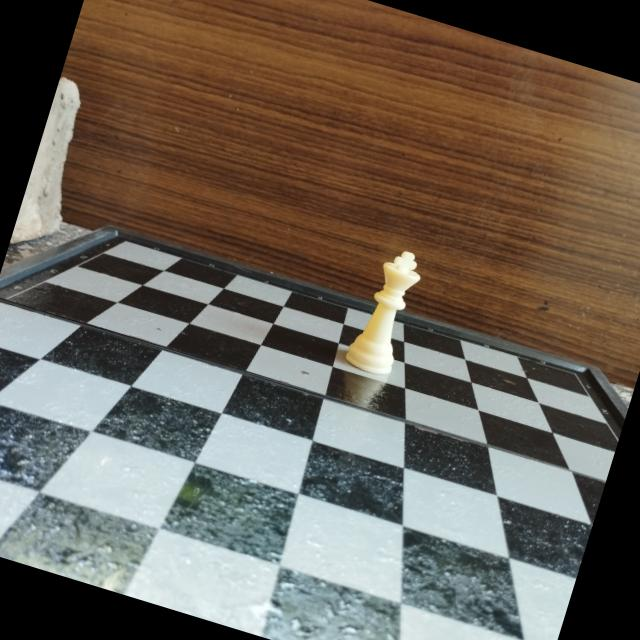White King: (335, 235, 436, 391)
